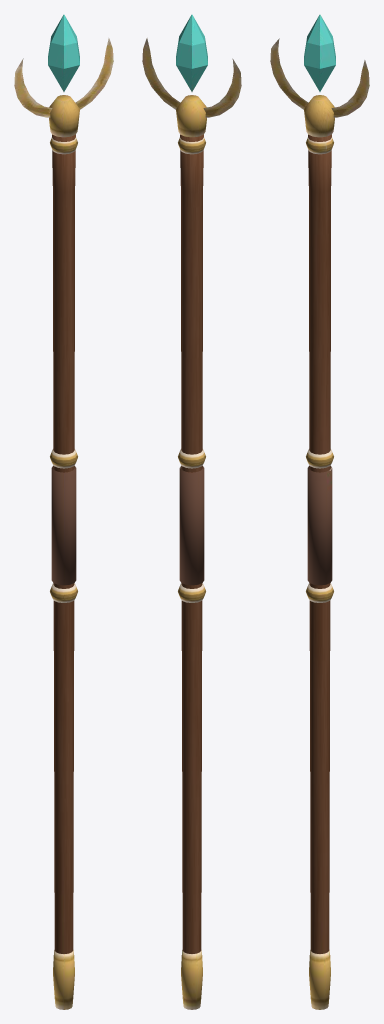
Rendered from stab.glb.
The picture shows the model from 3 angles, left to right: view 1: azimuth 30°, elevation 25°; view 2: azimuth 150°, elevation 25°; view 3: azimuth 330°, elevation 25°; orthographic projection.
Visible parts, largest first — view 1: stab; view 2: stab; view 3: stab.
Part boxes in pixels (box(x1,y1,x2,y2)): stab: box(14, 14, 113, 1009); stab: box(142, 14, 241, 1009); stab: box(270, 14, 369, 1009).
Bounding box in the file's own units: 0.185 × 1.77 × 0.052.
Materials: 4 (4 with a texture image).
